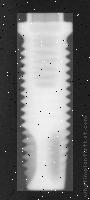Nobel Biocare: (17, 13, 73, 191)
